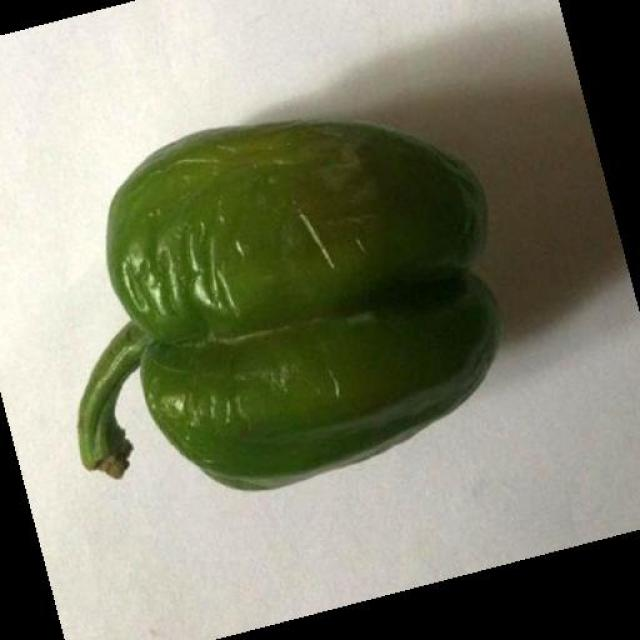Stale_Capsicum: (66, 125, 504, 460)
